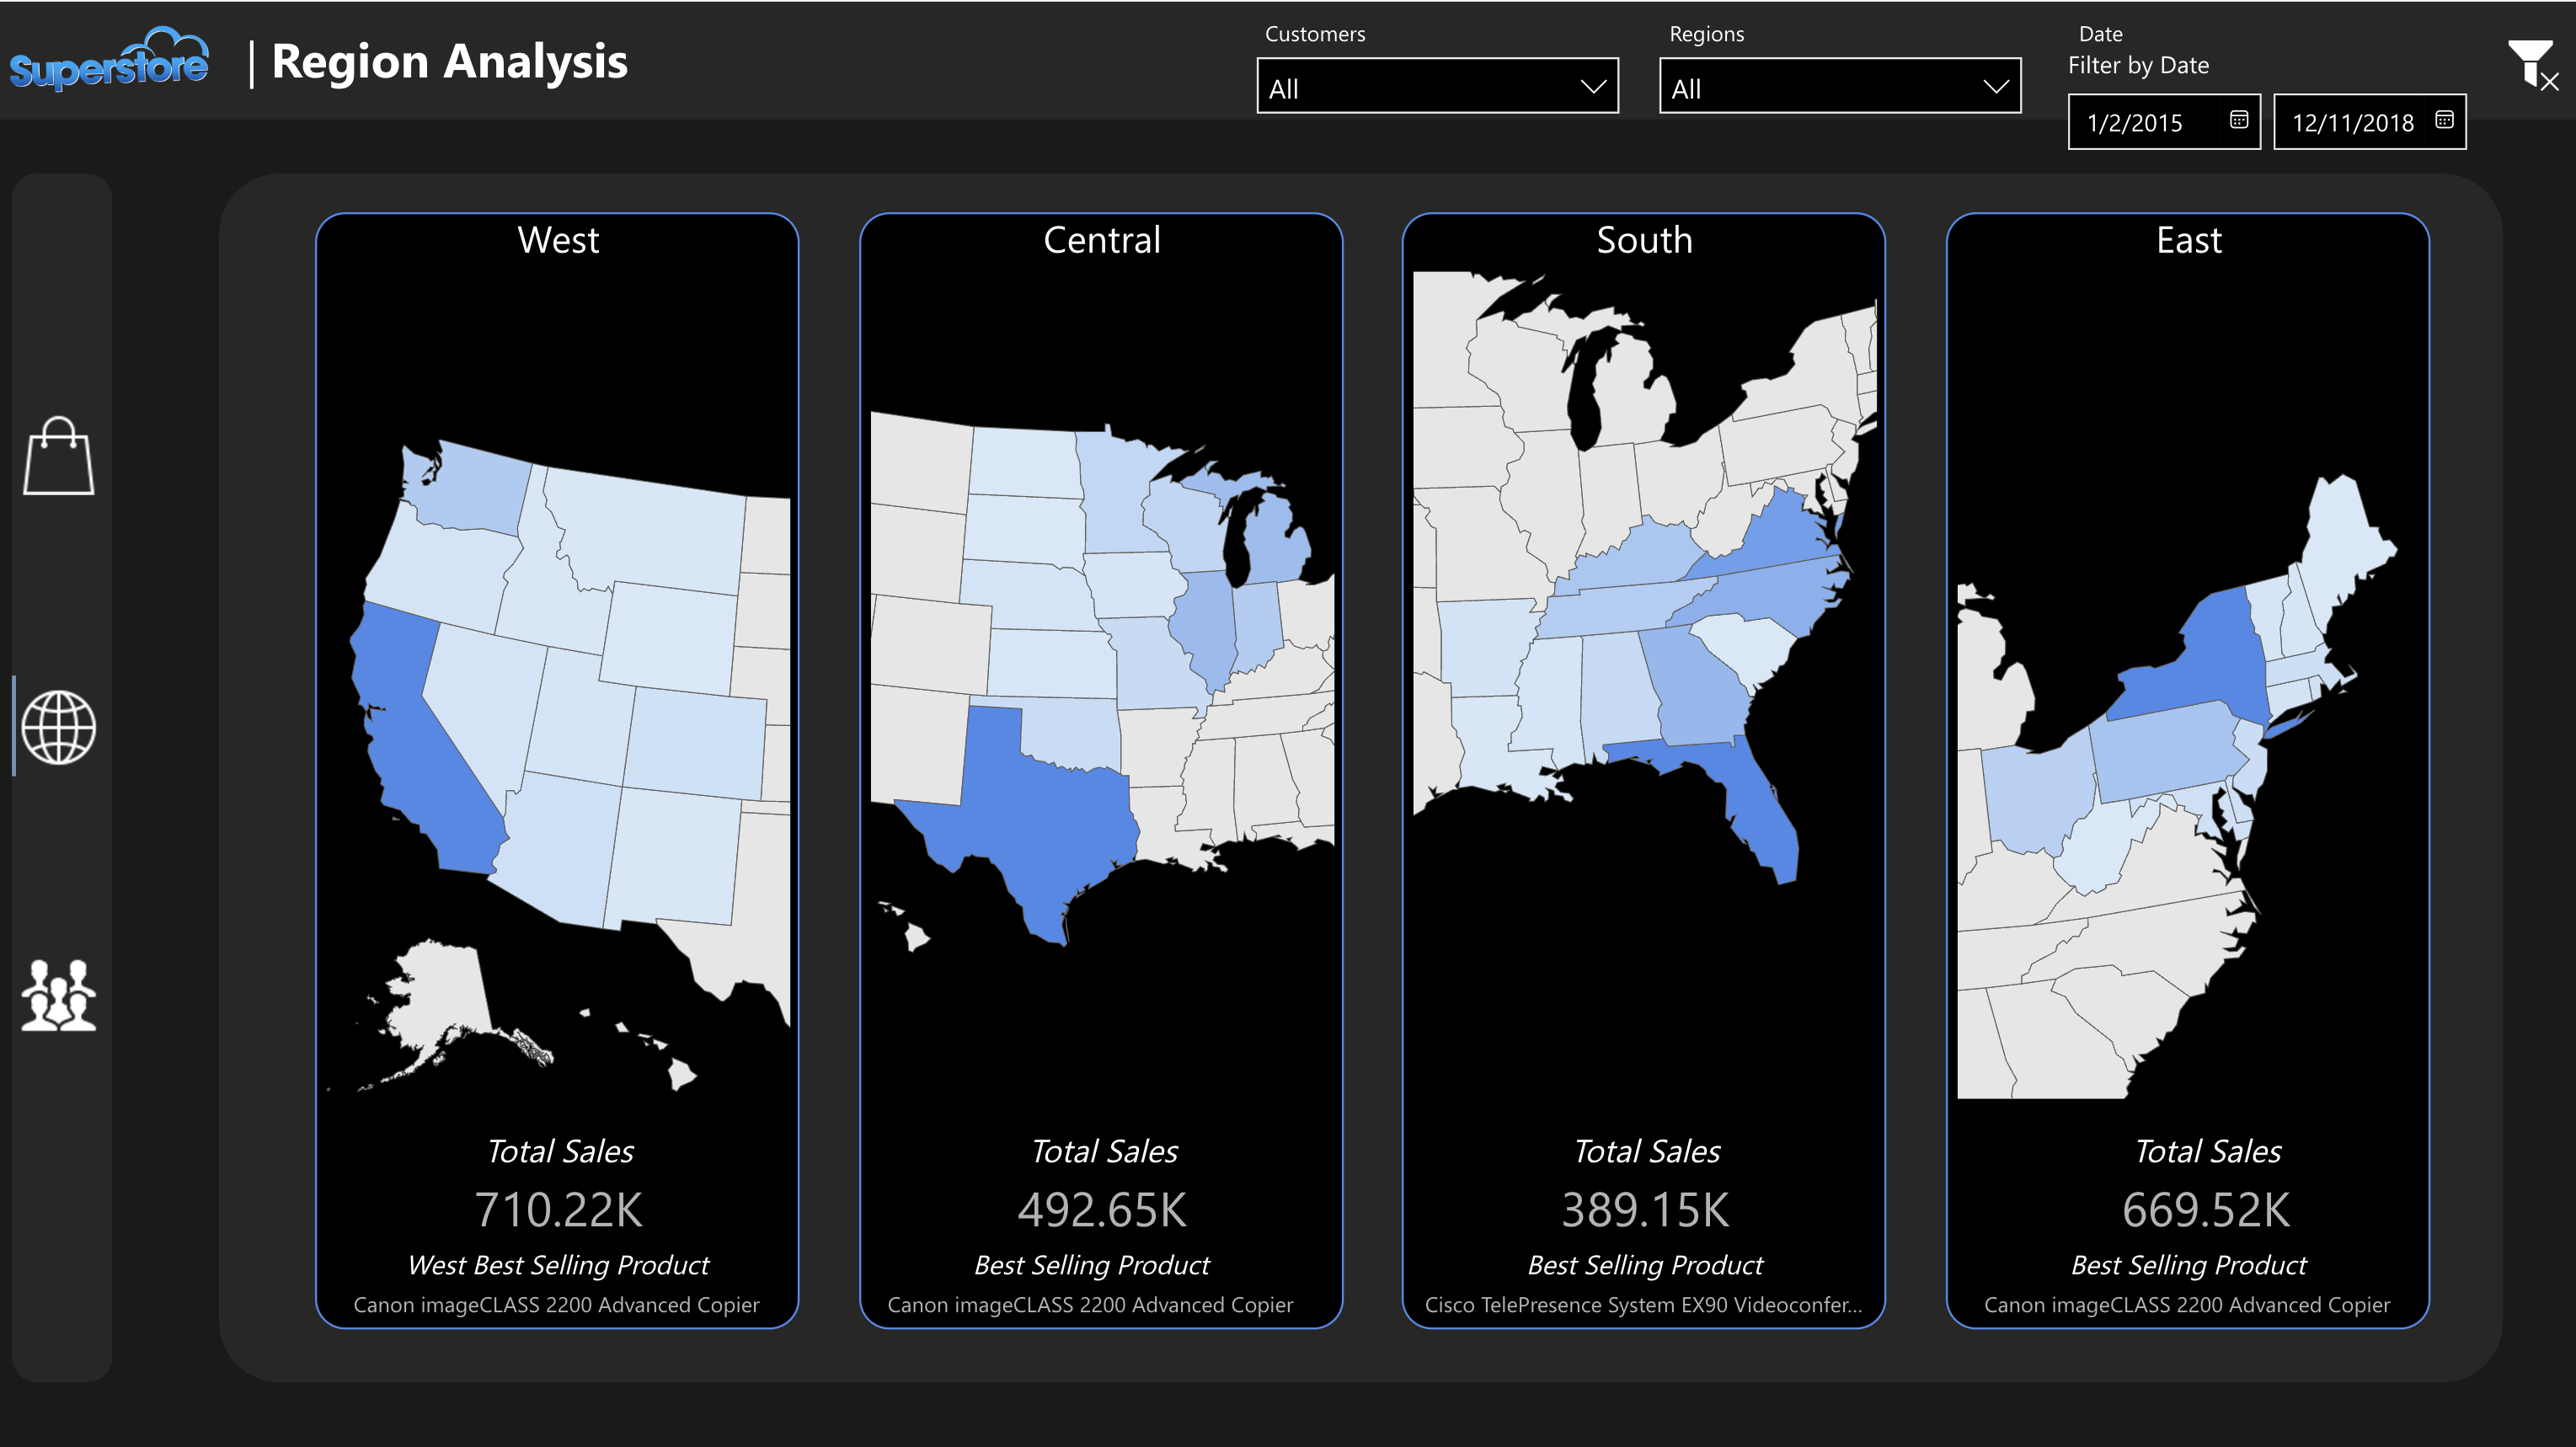

Layout of this report page (visuals, bound fields, positions):
{"tool":"powerbi","page":{"name":"Home","canvas":[1280,720],"ordinal":0},"visuals":[{"type":"shape","box":[0,0,1280,58.6],"z":0},{"type":"textbox","title":"| Region Analysis","box":[116.4,6.9,273.1,43.9],"z":0,"group":"g5"},{"type":"shape","box":[156.3,104.3,240.6,554.4],"z":0,"group":"g1"},{"type":"shape","box":[425.7,104.3,240.6,554.4],"z":0,"group":"g2"},{"type":"shape","box":[695.1,104.3,240.6,554.4],"z":0,"group":"g3"},{"type":"shape","box":[965.1,104.3,240.6,554.4],"z":0,"group":"g4"},{"type":"shape","box":[108.6,85,1133.6,600],"z":1000},{"type":"group","id":"g1","title":"West","box":[156.3,104.3,240.6,556.9],"z":1000,"group":"g5"},{"type":"shapeMap","title":"West","fields":{"Category":["train.State"]},"box":[156.9,104.4,240,445],"z":1000,"group":"g1"},{"type":"shapeMap","title":"Central","fields":{"Category":["train.State"]},"box":[426.5,104.4,240,445],"z":1000,"group":"g2"},{"type":"shapeMap","title":"South","fields":{"Category":["train.State"]},"box":[695.5,104.4,240,445],"z":1000,"group":"g3"},{"type":"shapeMap","title":"East","fields":{"Category":["train.State"]},"box":[965.5,104.4,240,445],"z":1000,"group":"g4"},{"type":"image","box":[0,0,108.6,57.1],"z":2000},{"type":"group","id":"g2","title":"Central","box":[425.7,104.3,240.8,556.9],"z":2000,"group":"g5"},{"type":"card","title":"Total Sales","fields":{"Values":["Sum(train.Sales)"]},"box":[206.3,557.9,141.2,61.2],"z":2000,"group":"g1"},{"type":"card","title":"Total Sales","fields":{"Values":["Sum(train.Sales)"]},"box":[475.7,557.9,141.2,61.2],"z":2000,"group":"g2"},{"type":"card","title":"Total Sales","fields":{"Values":["Sum(train.Sales)"]},"box":[745.1,557.9,141.2,61.2],"z":2000,"group":"g3"},{"type":"card","title":"Total Sales","fields":{"Values":["Sum(train.Sales)"]},"box":[1023.9,557.9,141.2,61.2],"z":2000,"group":"g4"},{"type":"shape","box":[5.6,85,50,600],"z":3000},{"type":"group","id":"g3","title":"South","box":[695.1,104.3,240.6,556.9],"z":3000,"group":"g5"},{"type":"card","title":"West Best Selling Product","fields":{"Values":["Min(train.Product Name)"]},"box":[162.5,616.8,228.1,44.4],"z":3000,"group":"g1"},{"type":"card","title":"Best Selling Product","fields":{"Values":["Min(train.Product Name)"]},"box":[426.3,616.8,228,44.4],"z":3000,"group":"g2"},{"type":"card","title":"Best Selling Product","fields":{"Values":["Min(train.Product Name)"]},"box":[701.3,616.8,228.8,44.4],"z":3000,"group":"g3"},{"type":"card","title":"Best Selling Product","fields":{"Values":["Min(train.Product Name)"]},"box":[971.3,616.8,228.1,44.4],"z":3000,"group":"g4"},{"type":"shape","box":[0.4,334.7,12.2,50],"z":3500,"group":"g5"},{"type":"group","id":"g4","title":"East","box":[965.1,104.3,240.6,556.9],"z":4000,"group":"g5"},{"type":"image","box":[4,335,50,50],"z":4000},{"type":"image","box":[4,200,50,50],"z":5000},{"type":"image","box":[4,468.1,50,50],"z":6000},{"type":"slicer","fields":{"Values":["train.Order Date"]},"box":[1007.5,0,226.6,66.2],"z":7000},{"type":"slicer","fields":{"Values":["train.Region","train.State"]},"box":[813.6,17.3,200,40],"z":8000},{"type":"image","box":[1240,14.3,35,35],"z":9000},{"type":"textbox","box":[823.6,0,79.5,29.1],"z":10000},{"type":"slicer","fields":{"Values":["train.Customer Name","train.Customer ID"]},"box":[613.6,17.3,200,40],"z":11000},{"type":"textbox","box":[623.2,0,79.5,29.1],"z":12000},{"type":"group","id":"g5","title":"Regions","box":[0.4,6.9,1205.3,654.3],"z":15000}]}

Visuals, with their boxes in screenshot pixels (x1, y1, x2, y2):
shape: BBox(20, 0, 2561, 116)
"| Region Analysis" textbox: BBox(251, 13, 794, 101)
shape: BBox(330, 207, 808, 1307)
shape: BBox(865, 207, 1343, 1307)
shape: BBox(1400, 207, 1877, 1307)
shape: BBox(1936, 207, 2413, 1307)
shape: BBox(236, 168, 2486, 1359)
"West" group: BBox(330, 207, 808, 1312)
"West" shapeMap: BBox(332, 207, 808, 1090)
"Central" shapeMap: BBox(867, 207, 1343, 1090)
"South" shapeMap: BBox(1401, 207, 1877, 1090)
"East" shapeMap: BBox(1937, 207, 2413, 1090)
image: BBox(20, 0, 236, 114)
"Central" group: BBox(865, 207, 1343, 1312)
"Total Sales" card: BBox(430, 1107, 710, 1229)
"Total Sales" card: BBox(965, 1107, 1244, 1229)
"Total Sales" card: BBox(1499, 1107, 1779, 1229)
"Total Sales" card: BBox(2052, 1107, 2333, 1229)
shape: BBox(31, 168, 131, 1359)
"South" group: BBox(1400, 207, 1877, 1312)
"West Best Selling Product" card: BBox(343, 1224, 795, 1312)
"Best Selling Product" card: BBox(866, 1224, 1318, 1312)
"Best Selling Product" card: BBox(1412, 1224, 1866, 1312)
"Best Selling Product" card: BBox(1948, 1224, 2401, 1312)
shape: BBox(21, 665, 45, 763)
"East" group: BBox(1936, 207, 2413, 1312)
image: BBox(28, 665, 127, 764)
image: BBox(28, 397, 127, 496)
image: BBox(28, 929, 127, 1028)
slicer - train.Order Date: BBox(2020, 0, 2469, 131)
slicer - train.Region x train.State: BBox(1635, 35, 2032, 114)
image: BBox(2481, 29, 2551, 98)
textbox: BBox(1654, 0, 1813, 58)
slicer - train.Customer Name x train.Customer ID: BBox(1238, 35, 1635, 114)
textbox: BBox(1257, 0, 1414, 58)
"Regions" group: BBox(21, 13, 2413, 1312)
